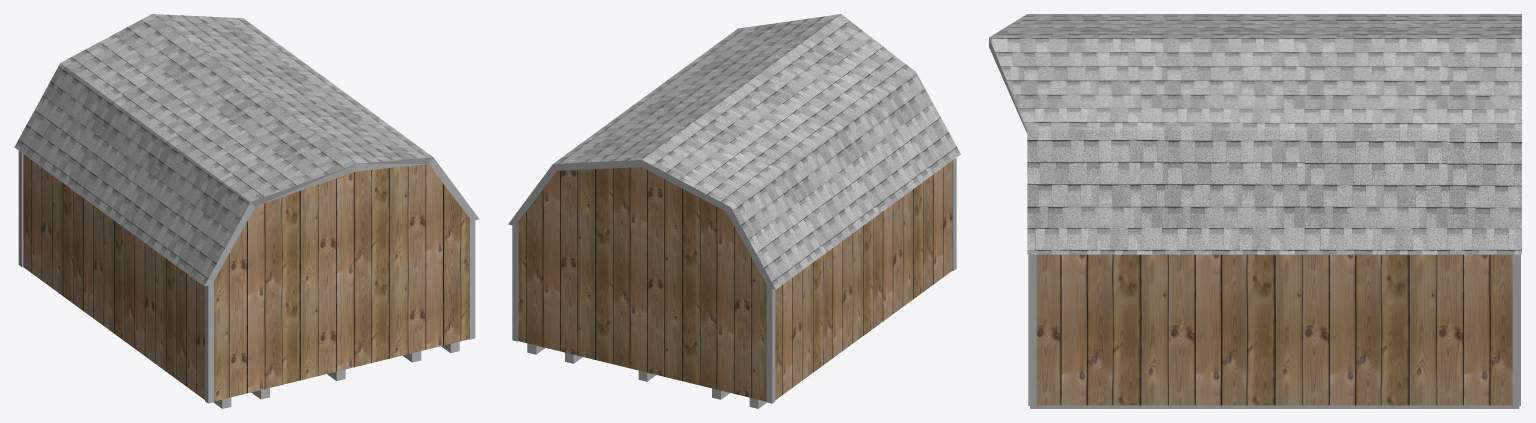
File: Mini Barn Sheds_10x12.obj
3 views of the same model, side by side, from view 1: azimuth 30°, elevation 25°; view 2: azimuth 150°, elevation 25°; view 3: azimuth 270°, elevation 25° (orthographic). The views are drawn at different scales.
Visible parts, largest first — view 1: Shed, Roof, Trim, Sides, Floor; view 2: Shed, Roof, Trim, Sides, Floor; view 3: Roof, Shed, Trim, Floor.
Boxes of the visible parts, <box> form: Shed: <box>23,154,471,401</box>; Roof: <box>14,14,432,286</box>; Trim: <box>18,151,475,403</box>; Sides: <box>205,157,479,286</box>; Floor: <box>214,341,459,408</box>; Shed: <box>517,161,952,401</box>; Roof: <box>553,14,960,289</box>; Trim: <box>512,157,956,403</box>; Sides: <box>508,160,775,289</box>; Floor: <box>527,343,766,408</box>; Roof: <box>989,14,1521,254</box>; Shed: <box>1036,254,1512,405</box>; Trim: <box>1028,254,1520,405</box>; Floor: <box>1030,405,1519,408</box>.
Size of the model in its own units: 3.09 by 2.44 by 3.98.
